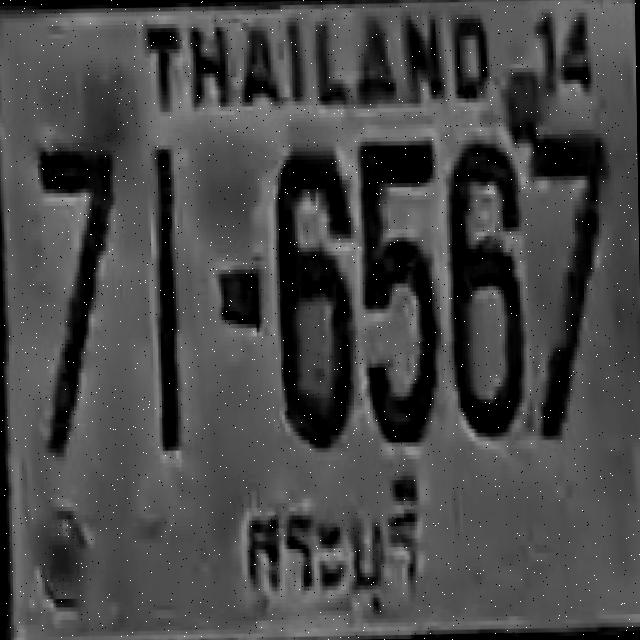1: (150, 140, 182, 450)
5: (356, 136, 439, 442)
6: (272, 146, 356, 444), (445, 138, 525, 436)
7: (527, 120, 613, 440), (35, 138, 121, 456)
SaraBuri: (227, 476, 433, 616)
